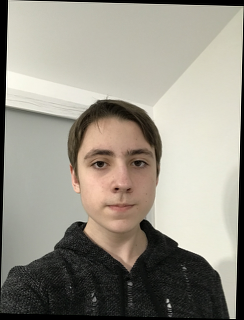without_mask: (77, 141, 156, 234)
